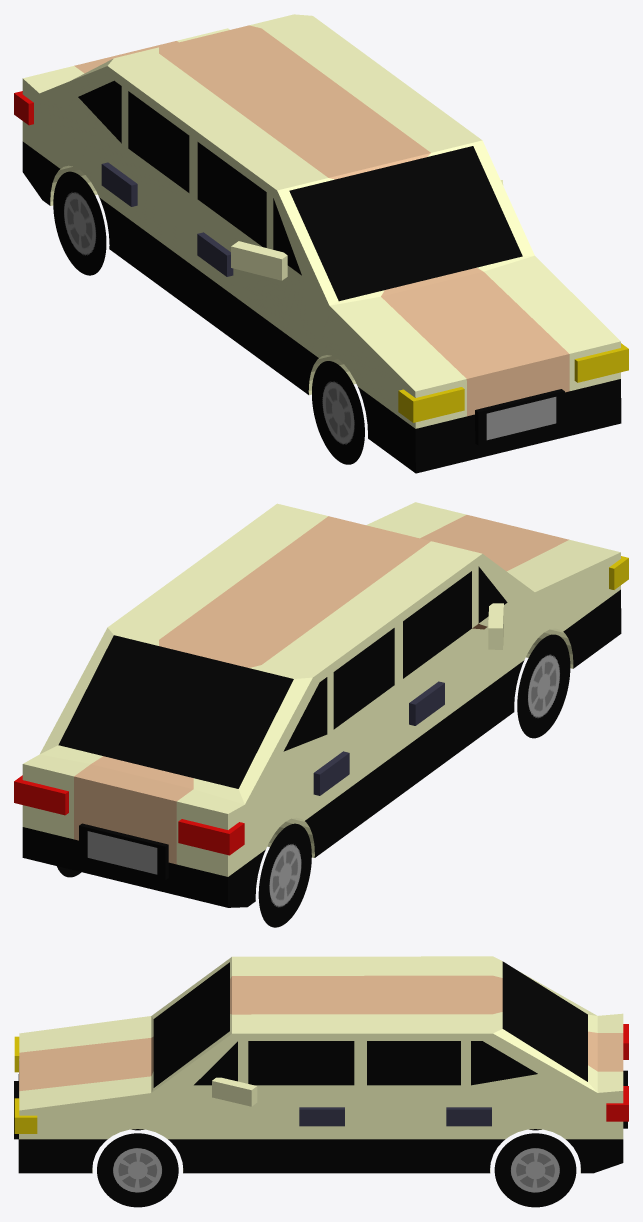
File: Mobil_8_Merah_D.fbx
3 renders of one model, top to bottom at view 1: azimuth 30°, elevation 25°; view 2: azimuth 150°, elevation 25°; view 3: azimuth 270°, elevation 25°, orthographic. The views are drawn at different scales.
Visible parts, largest first — view 1: Mobil1.001; view 2: Mobil1.001; view 3: Mobil1.001.
Part boxes in pixels (x1,y1,x2,y2): Mobil1.001: (14,14,628,473); Mobil1.001: (14,502,628,927); Mobil1.001: (14,956,628,1207).
Bounding box in the file's own units: 529 × 421 × 1348.
Materials: 6 (4 with a texture image).
